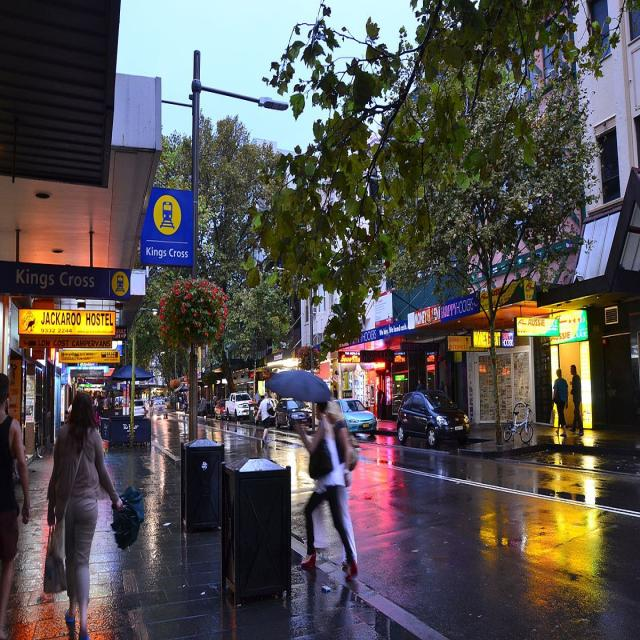body: (44, 386, 146, 640), (291, 396, 361, 588), (307, 398, 360, 580), (0, 370, 33, 639), (550, 367, 571, 439), (254, 390, 276, 448), (569, 364, 585, 438), (90, 382, 111, 426), (161, 389, 191, 416), (10, 441, 28, 482), (377, 383, 384, 423), (268, 386, 279, 406), (212, 392, 218, 406), (66, 401, 72, 415), (255, 389, 261, 402)
